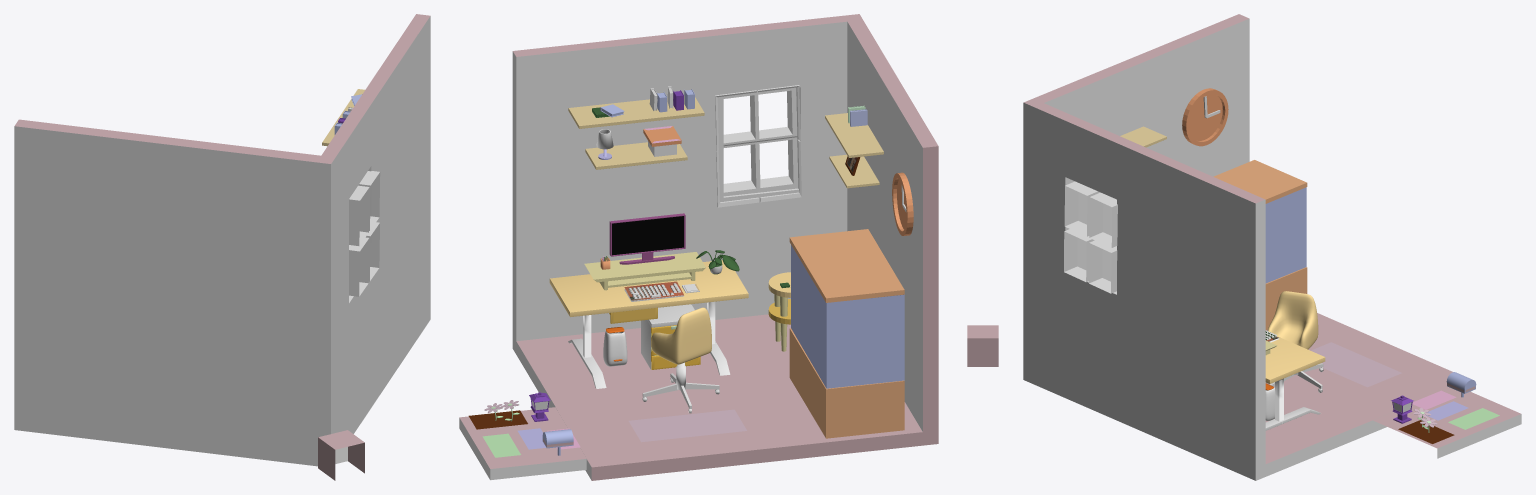
The model's file is Final Version 3.glb.
3 renders of one model, left to right at view 1: azimuth 30°, elevation 25°; view 2: azimuth 150°, elevation 25°; view 3: azimuth 270°, elevation 25°, orthographic. The views are drawn at different scales.
Visible parts, largest first — view 1: body, Cube, shelves; view 2: body, aquarium, shelves, desk, floor items, mini floor, table stuff, computer, chair, clock, dirt, floorthird (+1 smaller); view 3: body, aquarium, mini floor, floor items, desk, chair, clock, Cube, dirt.
Boxes of the visible parts, x1,y1,x2,y2 form: body: (14,14,430,466); Cube: (318,430,364,480); shelves: (322,89,364,146); body: (512,14,938,480); aquarium: (789,229,904,438); shelves: (568,86,883,188); desk: (549,260,790,388); floor items: (603,304,746,442); mini floor: (459,407,586,480); table stuff: (584,250,789,301); computer: (609,213,685,264); chair: (651,307,711,364); clock: (892,172,913,235); dirt: (469,410,527,429); floorthird: (482,433,520,457); body: (1023,14,1471,480); aquarium: (1213,160,1307,329); mini floor: (1373,388,1521,458); floor items: (1265,342,1401,420); desk: (1265,336,1325,430); chair: (1267,291,1318,349); clock: (1182,88,1228,146); Cube: (967,325,998,366); dirt: (1398,420,1454,443).
Bounding box in the file's own units: 28.61 × 19.52 × 35.34.
Materials: 32 (1 with a texture image).
